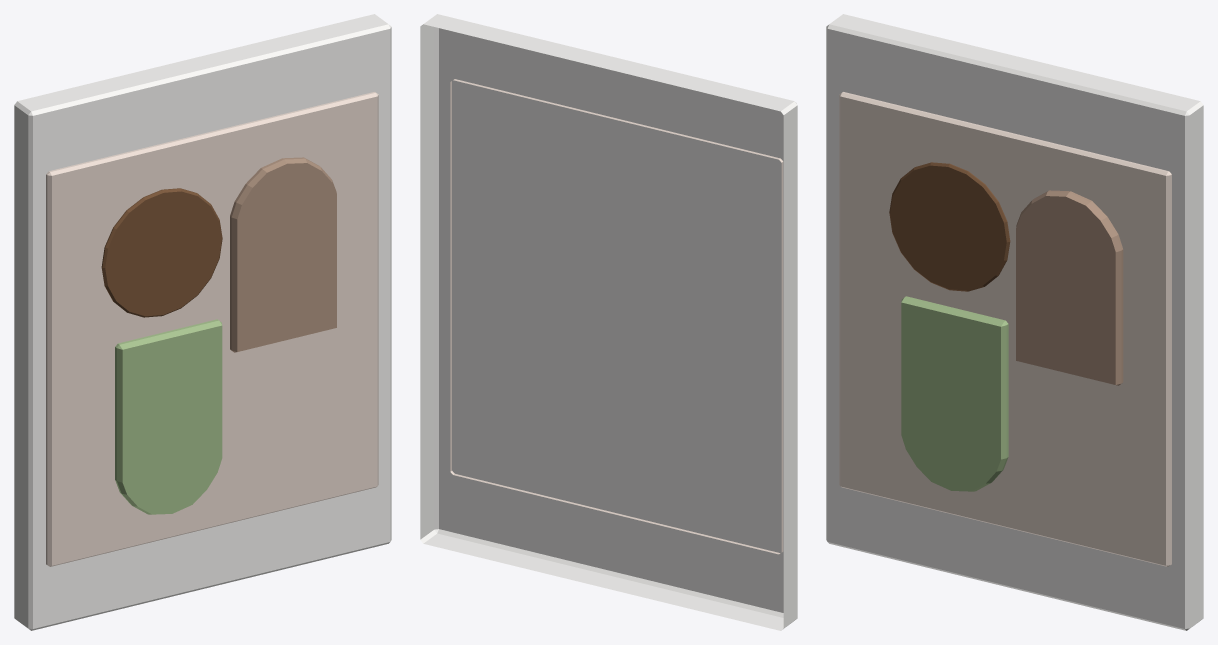
Rendered from Painting_1.glb.
3 views of the same model, side by side, from view 1: azimuth 30°, elevation 25°; view 2: azimuth 150°, elevation 25°; view 3: azimuth 330°, elevation 25° (orthographic).
Parts seen in each view (by area): view 1: Painting_1; view 2: Painting_1; view 3: Painting_1.
Boxes of the visible parts, <box> form: Painting_1: <box>14,14,391,630</box>; Painting_1: <box>420,14,797,630</box>; Painting_1: <box>826,14,1203,630</box>.
Bounding box in the file's own units: 0.9492 × 1.3 × 0.1068.
Materials: 1 (1 with a texture image).
